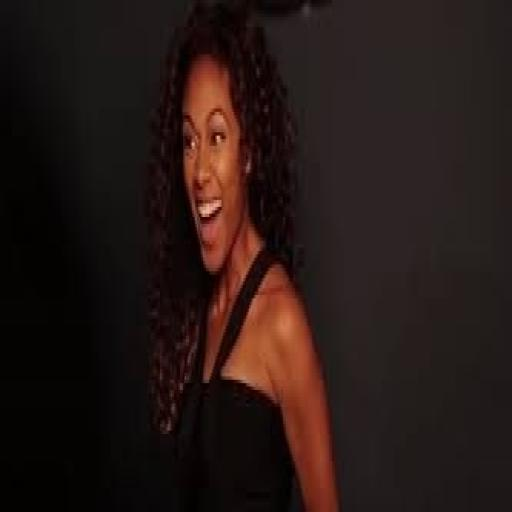laughing: (138, 0, 346, 509)
